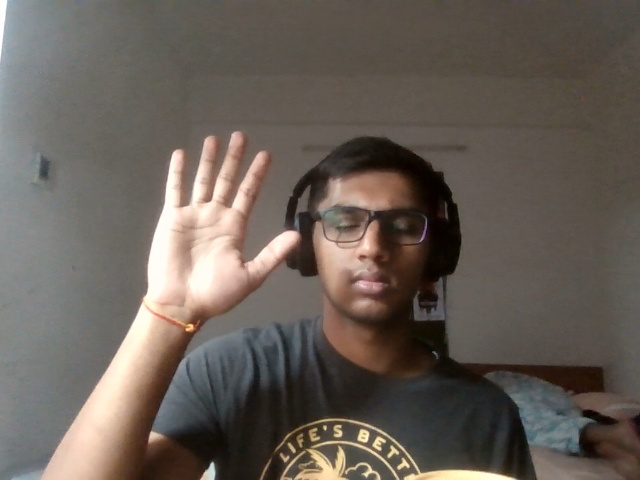hello: (122, 137, 306, 320)
